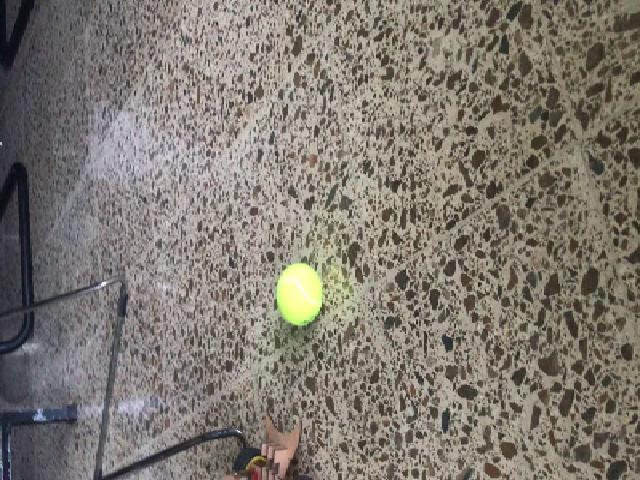Ball: (275, 264, 322, 326)
